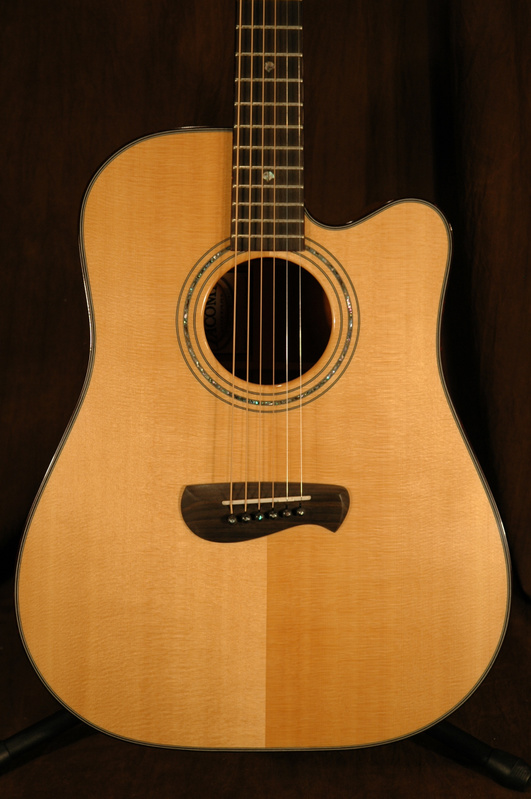guitar: (14, 1, 511, 753)
